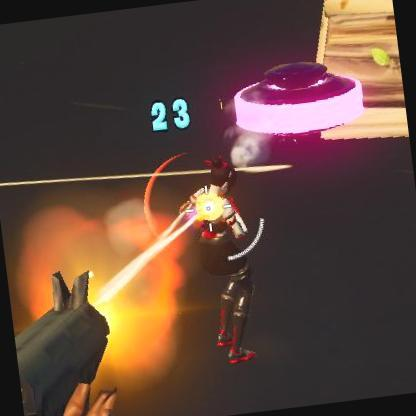person: (176, 163, 280, 361)
